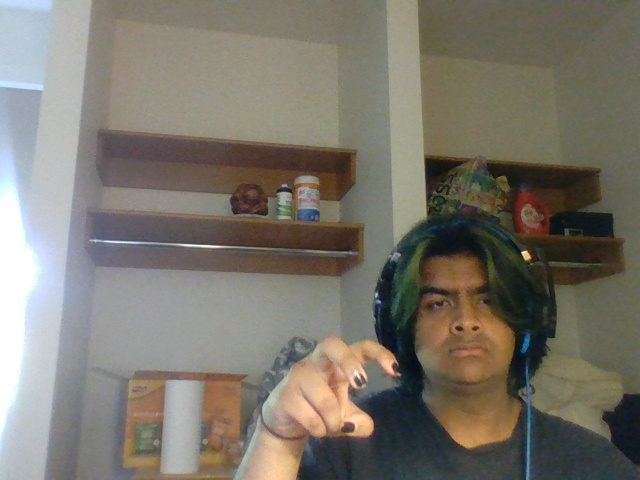z: (258, 328, 405, 446)
